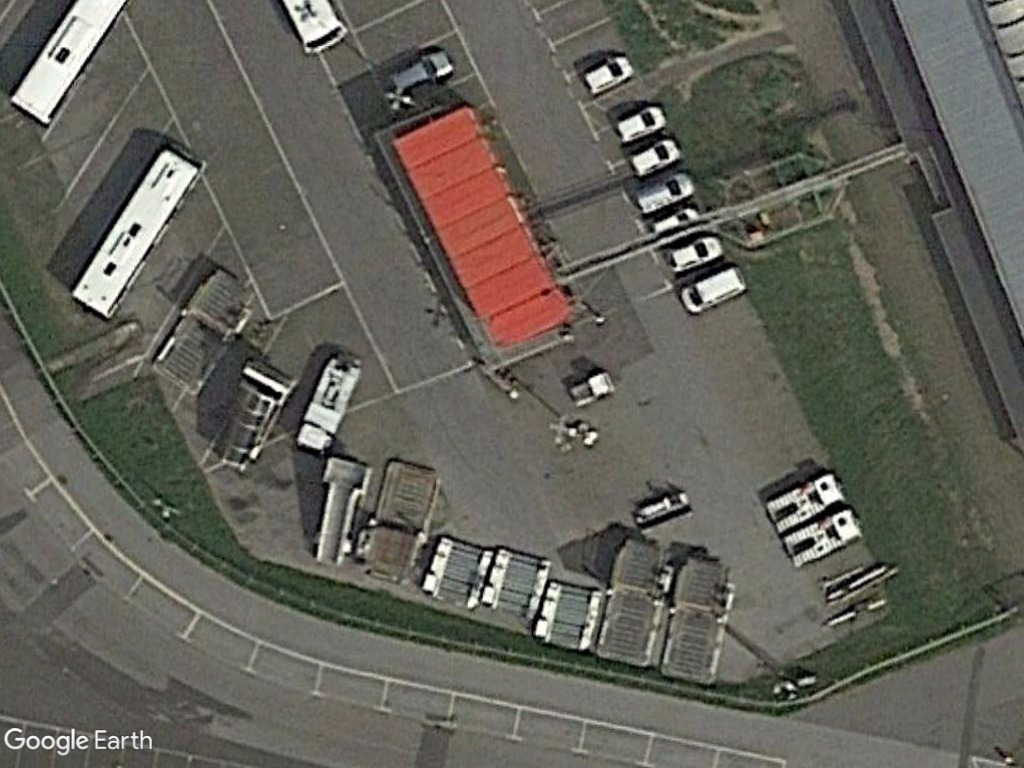bus: (65, 135, 204, 326)
car: (634, 167, 699, 214), (608, 100, 668, 147), (662, 231, 724, 275), (625, 134, 681, 182), (581, 50, 636, 97)
pushbacktruck: (782, 506, 866, 573), (764, 473, 851, 537)
stairtruck: (307, 452, 373, 571)
van: (675, 262, 750, 317)
